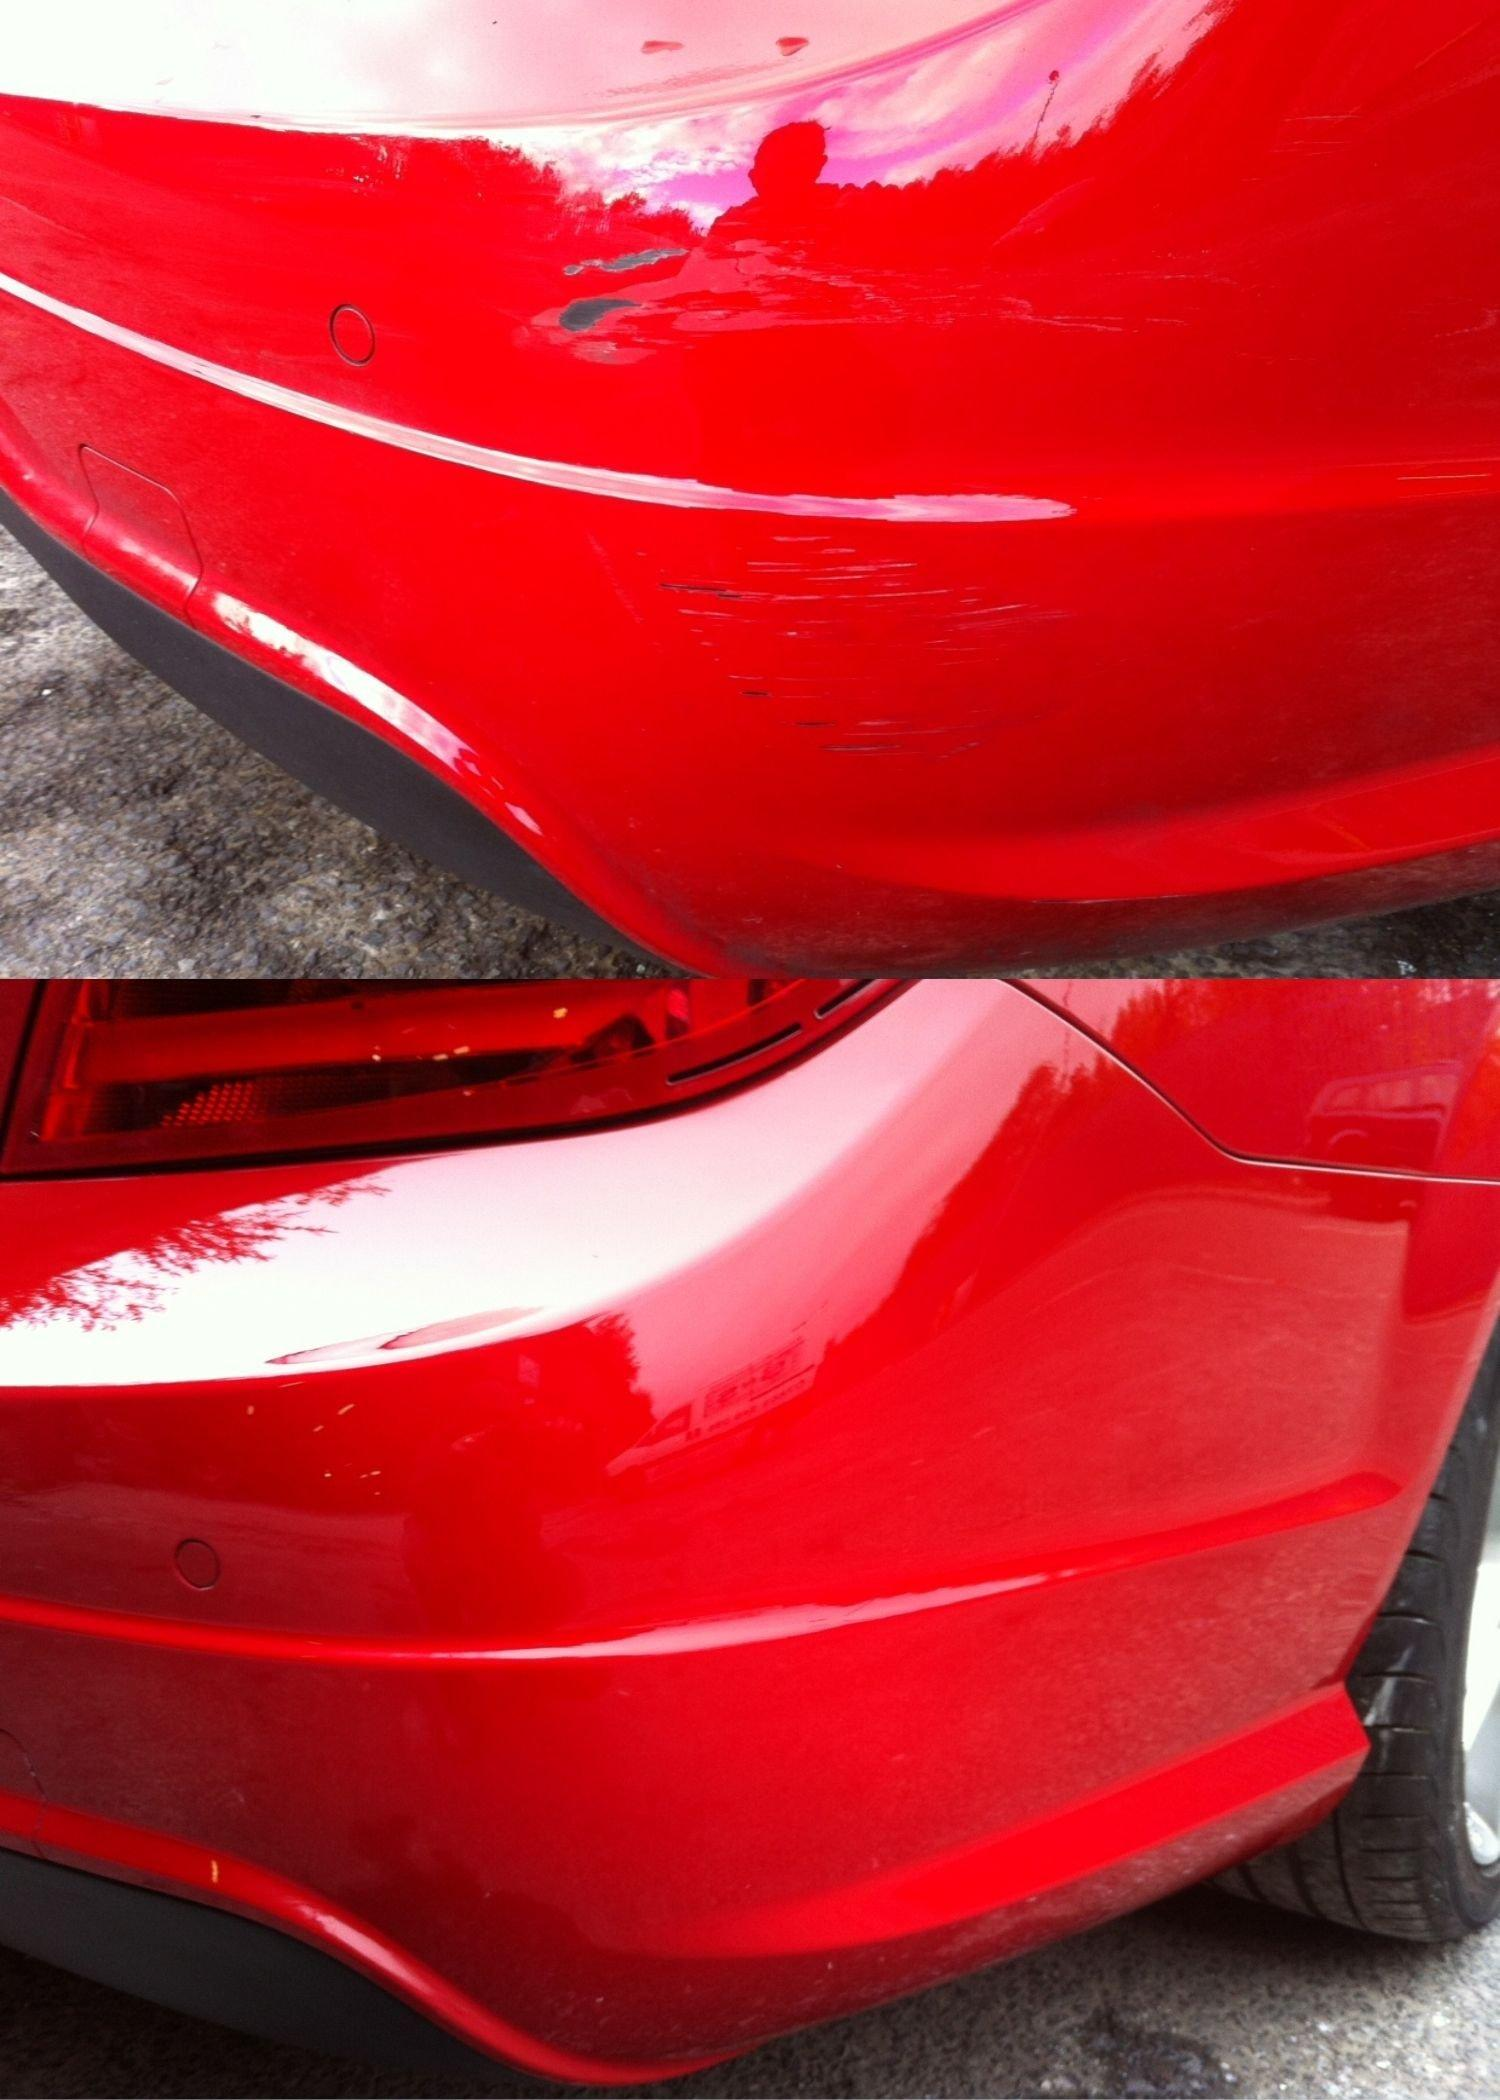scratch: (471, 175, 1055, 445), (625, 495, 1084, 795)
